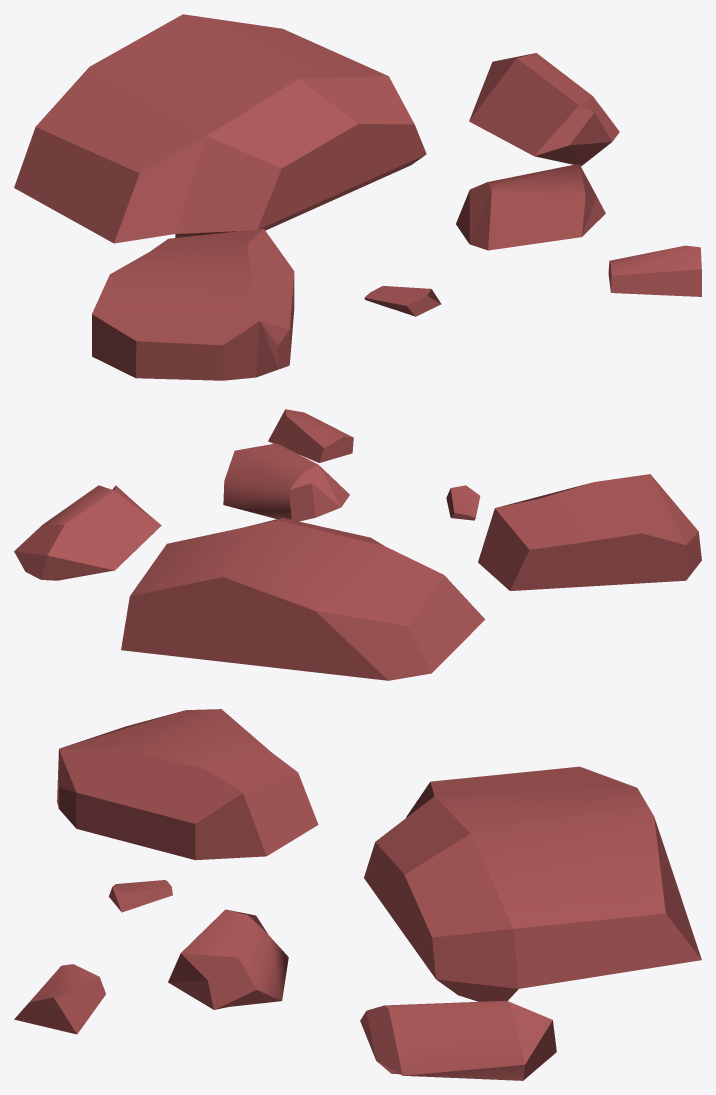
The model's file is SM_Ground_Rock_01.fbx.
3 views of the same model, one above another, from view 1: azimuth 30°, elevation 25°; view 2: azimuth 150°, elevation 25°; view 3: azimuth 270°, elevation 25° (orthographic). The views are drawn at different scales.
Visible parts, largest first — view 1: Box068; view 2: Box068; view 3: Box068.
Part boxes in pixels (x1,y1,x2,y2): Box068: (14, 14, 701, 380); Box068: (14, 409, 701, 680); Box068: (14, 709, 701, 1080).
Bounding box in the file's own units: 210 × 38.78 × 194.
